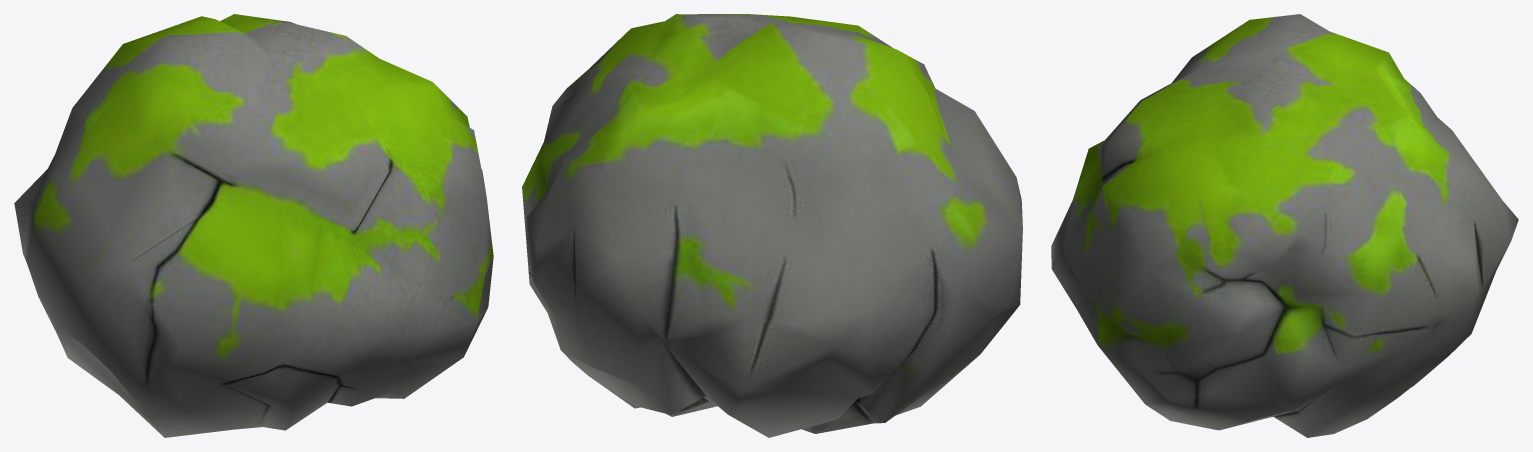
File: p_boulder.glb
3 views of the same model, side by side, from view 1: azimuth 30°, elevation 25°; view 2: azimuth 150°, elevation 25°; view 3: azimuth 270°, elevation 25° (orthographic). The views are drawn at different scales.
Parts seen in each view (by area): view 1: Mesh_0; view 2: Mesh_0; view 3: Mesh_0.
Part boxes in pixels (<box>): Mesh_0: <box>14,14,493,437</box>; Mesh_0: <box>522,14,1022,437</box>; Mesh_0: <box>1051,14,1518,437</box>.
Size of the model in its own units: 0.3554 by 0.3 by 0.3704.
1 material, 1 textured.
